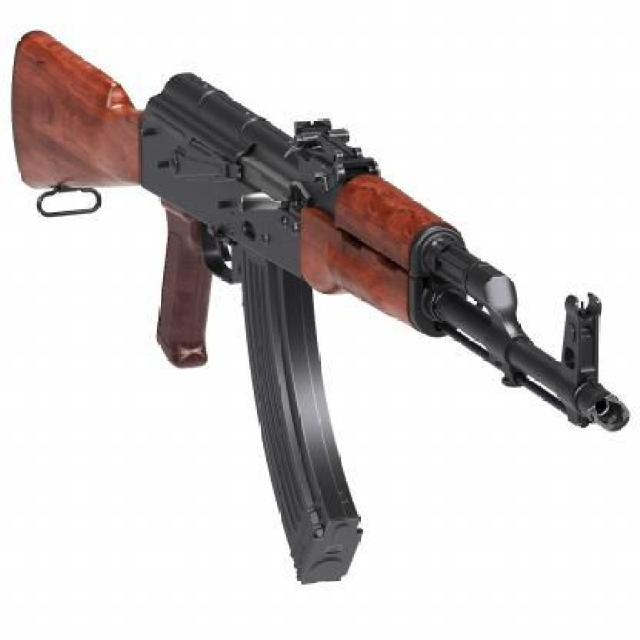weapon: (8, 10, 636, 609)
